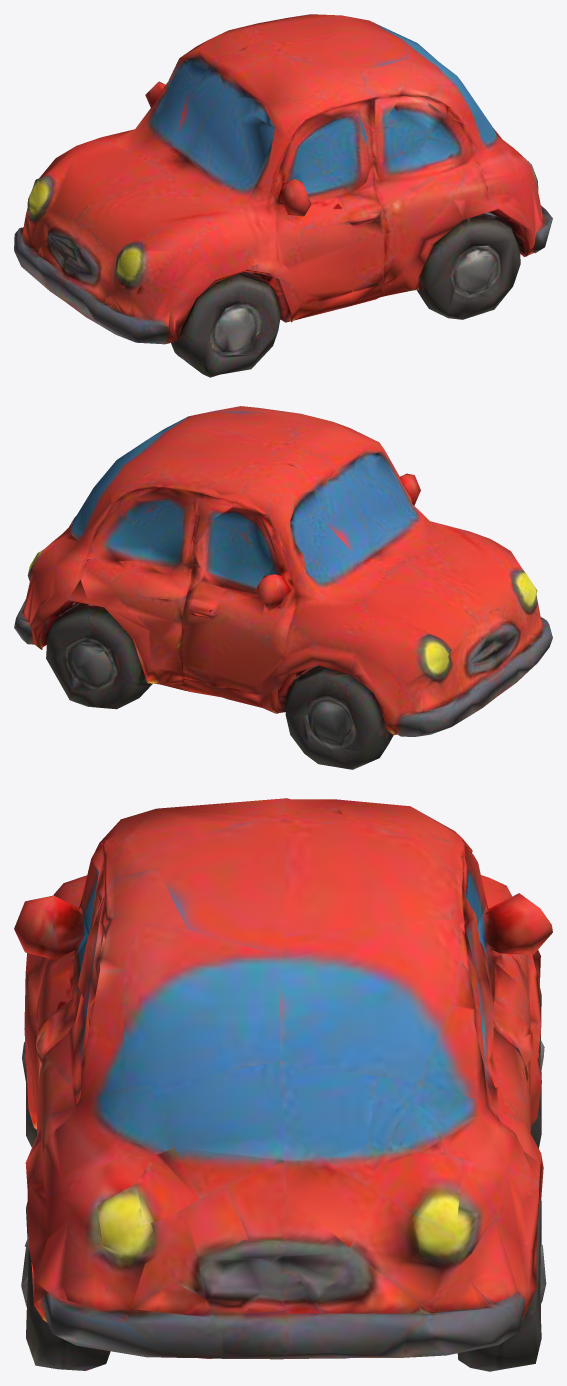
Rendered from toycar.glb.
3 renders of one model, top to bottom at view 1: azimuth 30°, elevation 25°; view 2: azimuth 150°, elevation 25°; view 3: azimuth 270°, elevation 25°, orthographic. The views are drawn at different scales.
Bounding box in the file's own units: 1.9 × 1.03 × 1.16.
Materials: 1 (1 with a texture image).
